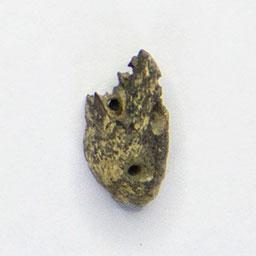defect: (80, 45, 173, 211)
